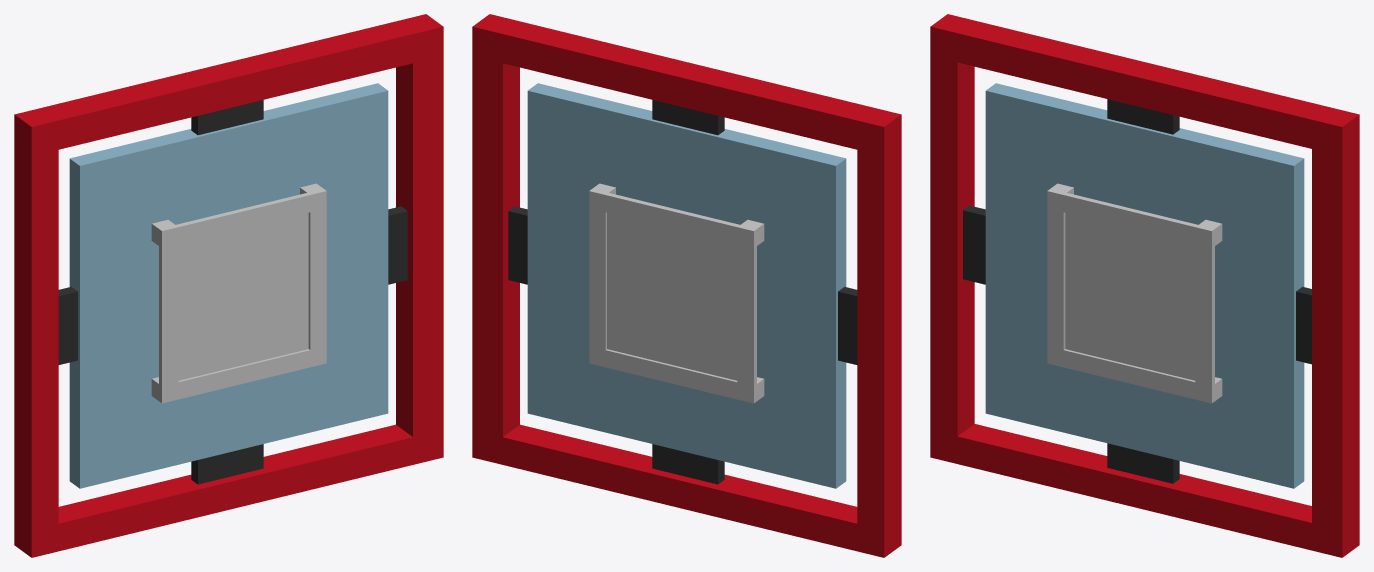
File: WallPass.obj
The picture shows the model from 3 angles, left to right: view 1: azimuth 30°, elevation 25°; view 2: azimuth 150°, elevation 25°; view 3: azimuth 330°, elevation 25°; orthographic projection.
Visible parts, largest first — view 1: Middle_Cube.005, Outer_Ring_Cube.003, Cube.014_Cube.015, SideBars_Cube.006; view 2: Middle_Cube.005, Outer_Ring_Cube.003, Cube.014_Cube.015, SideBars_Cube.006; view 3: Middle_Cube.005, Outer_Ring_Cube.003, Cube.014_Cube.015, SideBars_Cube.006.
Part boxes in pixels (x1,y1,x2,y2): Middle_Cube.005: [69, 83, 388, 488]; Outer_Ring_Cube.003: [14, 14, 443, 557]; Cube.014_Cube.015: [151, 183, 326, 403]; SideBars_Cube.006: [58, 100, 407, 484]; Middle_Cube.005: [527, 83, 846, 488]; Outer_Ring_Cube.003: [472, 14, 901, 557]; Cube.014_Cube.015: [589, 183, 764, 403]; SideBars_Cube.006: [508, 100, 857, 484]; Middle_Cube.005: [985, 83, 1304, 488]; Outer_Ring_Cube.003: [930, 14, 1359, 557]; Cube.014_Cube.015: [1047, 183, 1222, 403]; SideBars_Cube.006: [963, 99, 1311, 483].
Size of the model in its own units: 2 by 2 by 0.26.
